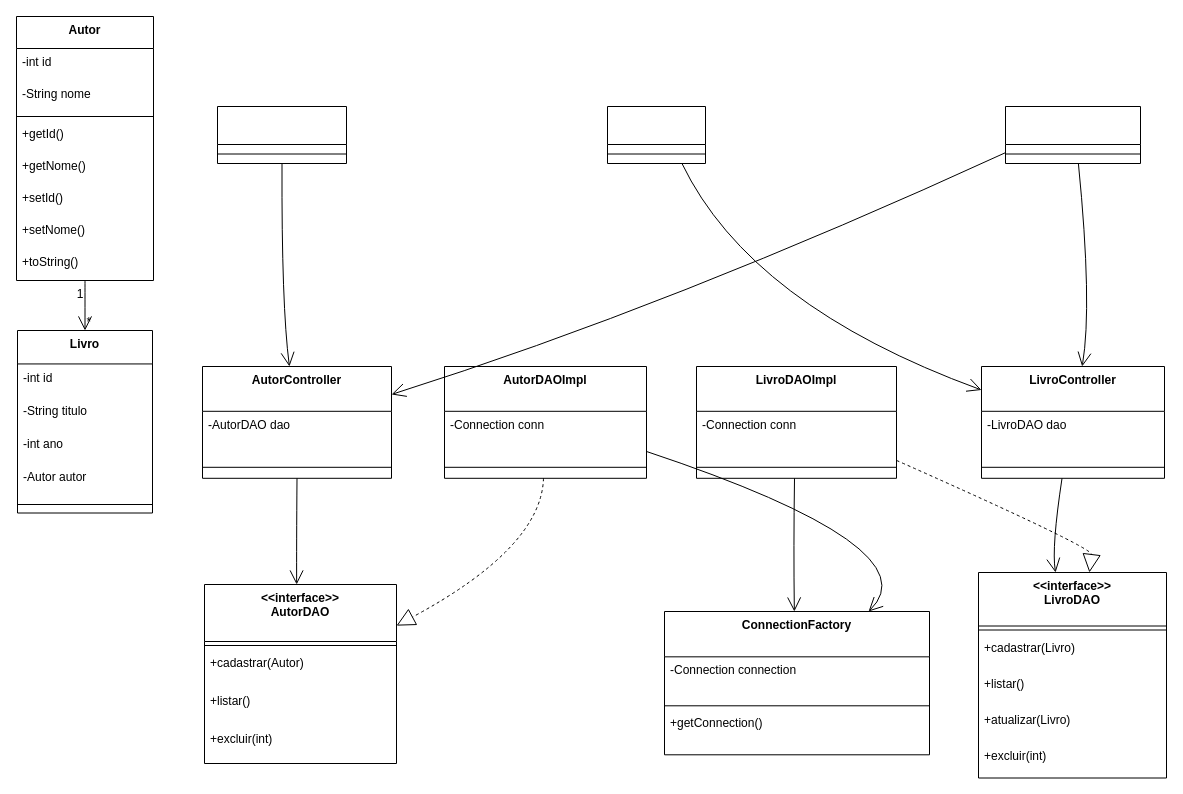
Some shapes in this 1183 by 794 pixel diagram are drawn without their labels. Here are the shapes that lost their labels. From the top down, the centre of each, then its label:
At (281,135): "AutorListView".
At (656,135): "LivroView".
At (1072,135): "BibliotecaView".
